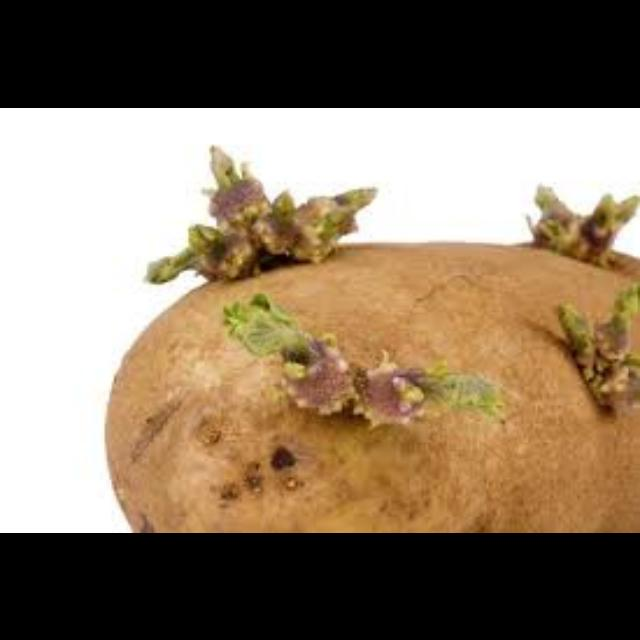Sprouted potato: (68, 132, 640, 532)
